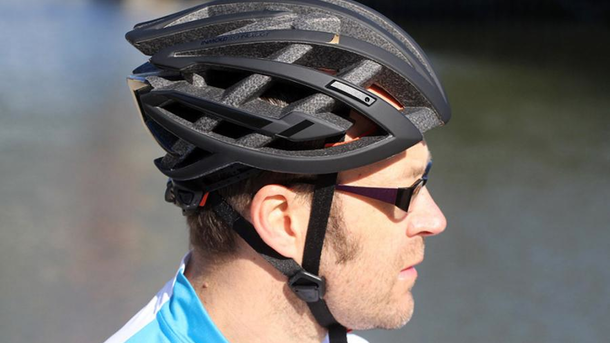helmet: (124, 1, 448, 332)
